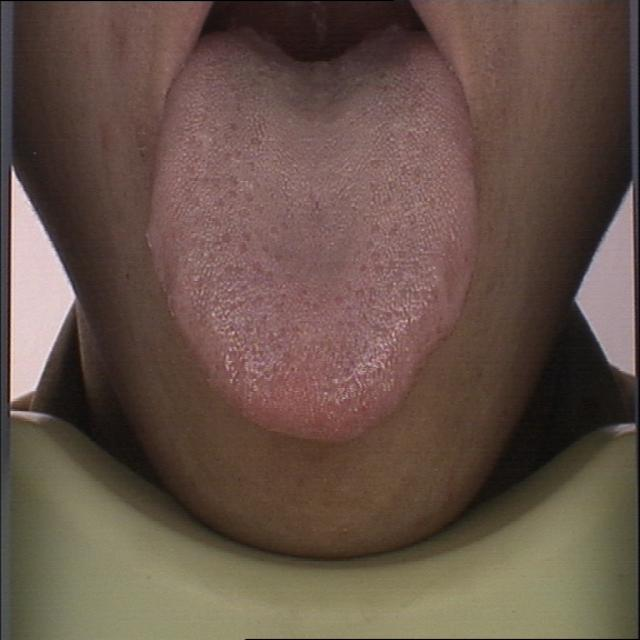tongue: (142, 27, 487, 447)
